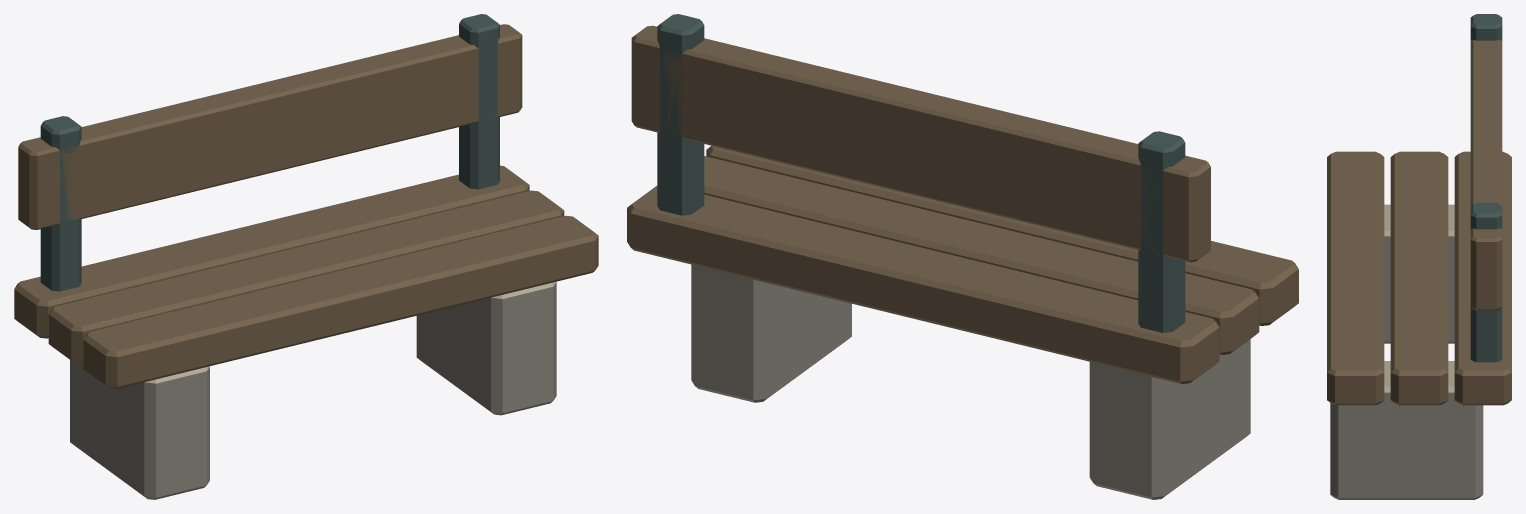
File: bench.glb
3 views of the same model, side by side, from view 1: azimuth 30°, elevation 25°; view 2: azimuth 150°, elevation 25°; view 3: azimuth 270°, elevation 25° (orthographic). The views are drawn at different scales.
Visible parts, largest first — view 1: bench__body; view 2: bench__body; view 3: bench__body.
Part boxes in pixels (x1,y1,x2,y2): bench__body: (14, 14, 598, 499); bench__body: (627, 14, 1298, 499); bench__body: (1327, 14, 1511, 499).
Bounding box in the file's own units: 1.65 × 1.02 × 0.58.
